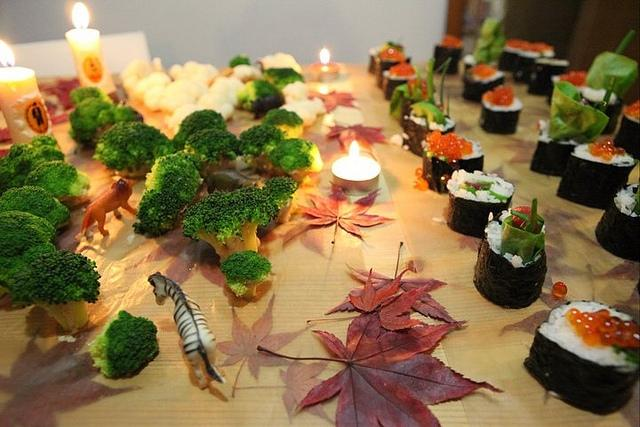broccoli: (181, 178, 297, 268), (0, 210, 56, 298), (87, 310, 158, 378), (91, 120, 172, 174), (0, 134, 65, 196), (1, 186, 71, 230), (145, 154, 204, 204), (132, 188, 192, 237), (24, 160, 92, 198), (238, 124, 288, 175), (69, 96, 117, 148), (172, 108, 227, 146), (185, 129, 241, 166), (235, 80, 285, 120), (269, 138, 323, 173), (262, 108, 304, 139), (262, 67, 306, 90), (70, 86, 104, 104), (229, 54, 251, 68)
